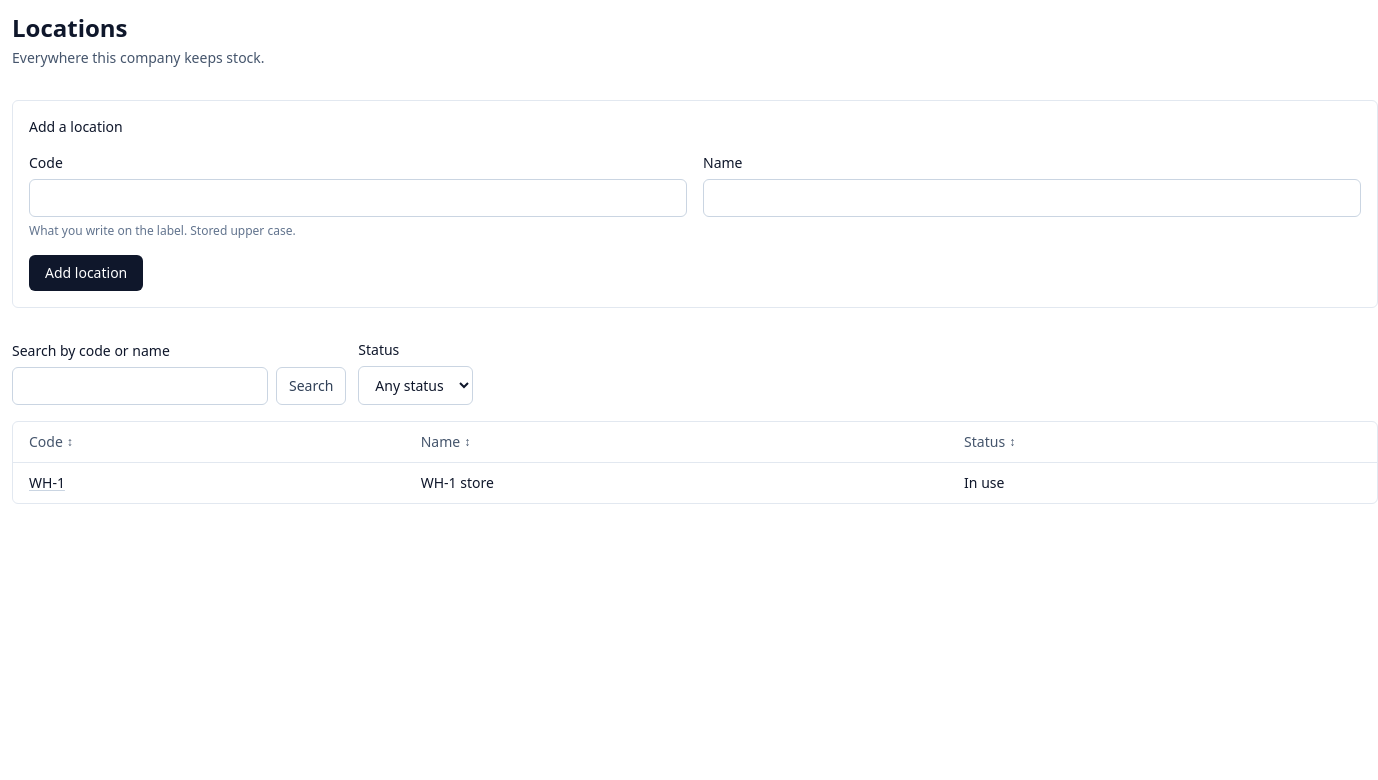
Test: LocationsPage › the panel for one location › deactivates one, and offers to bring it back rather than making that final
The width and height of the screenshot is (1378, 780).
Click the button "WH-1" at (47, 483), box [29,473,65,493]
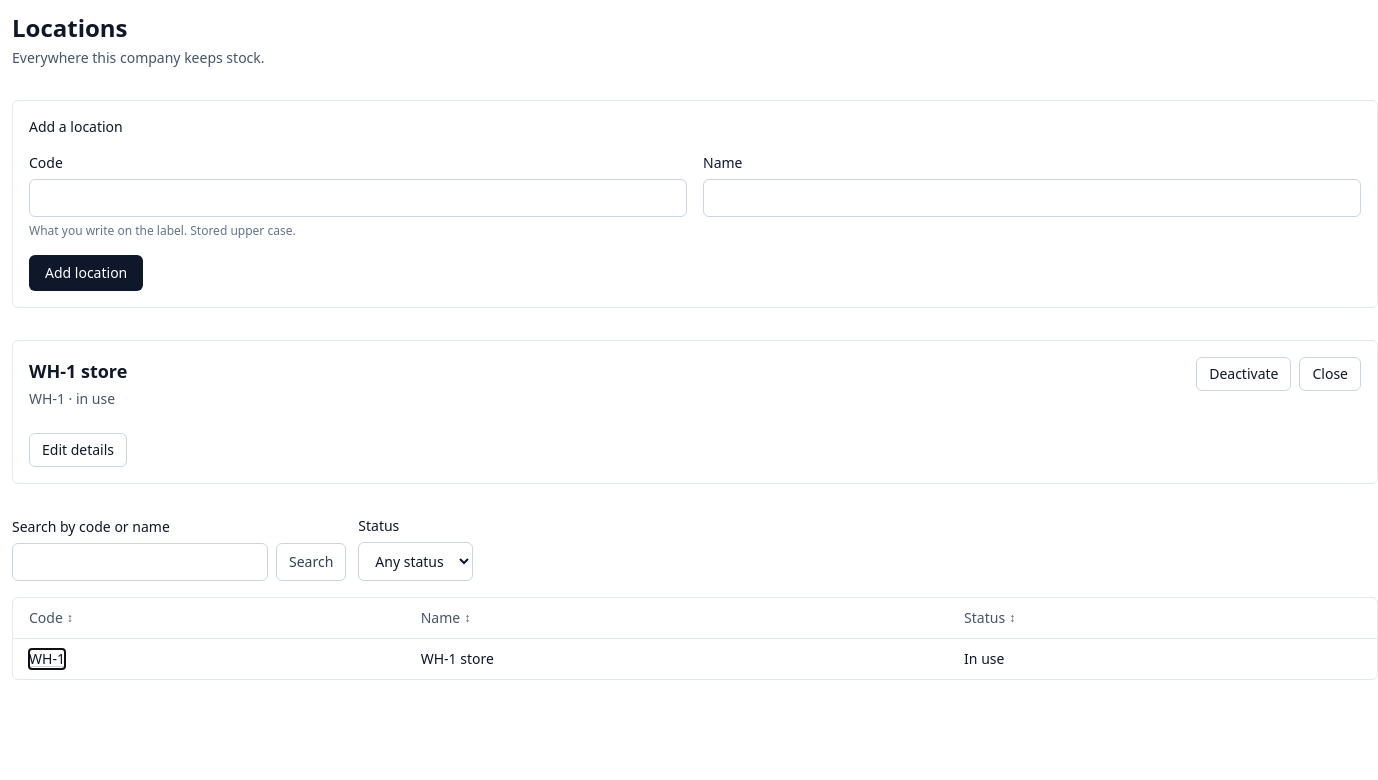
Now the heading "WH-1 store" is shown, box [29,357,127,385]
Click the button "Deactivate" at (1244, 374), box [1196,357,1292,391]
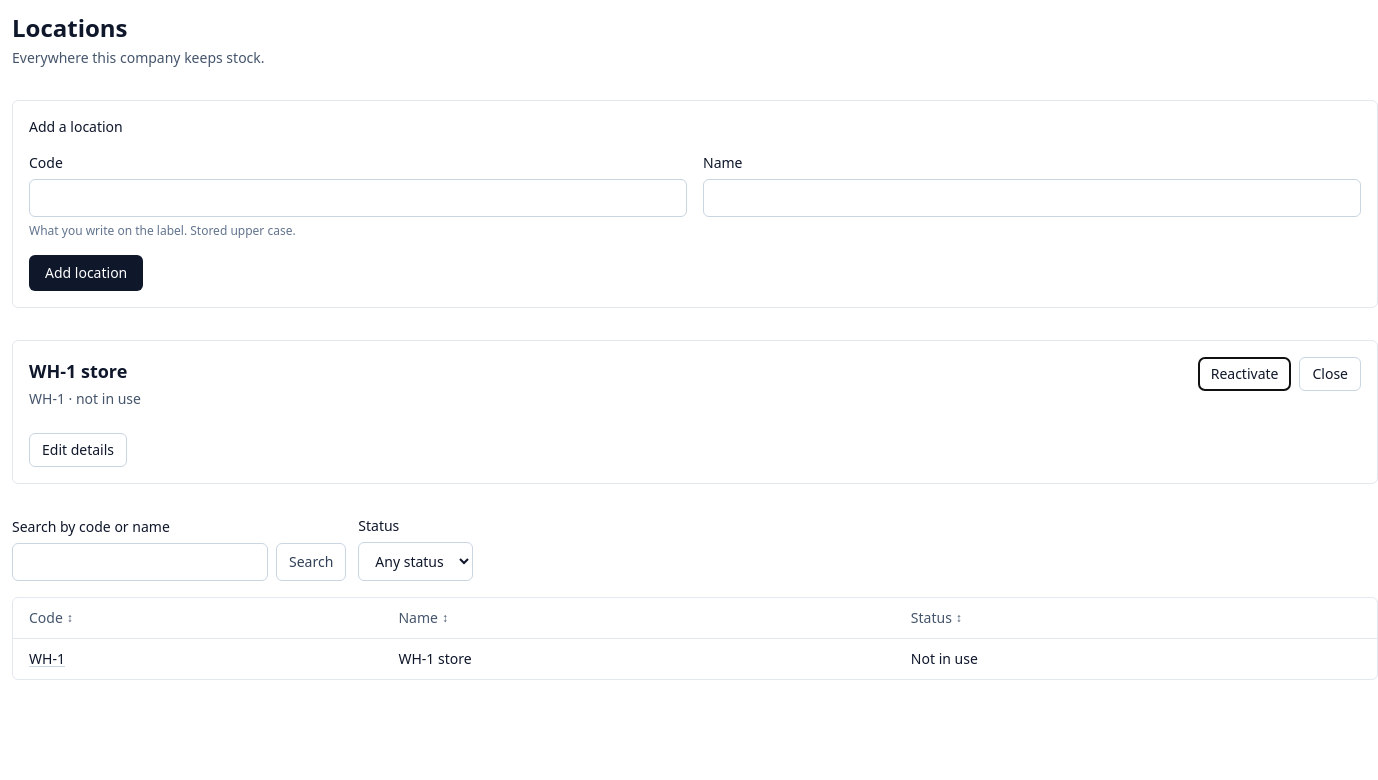
Now the button "Reactivate" is shown, box [1198,357,1292,391]
